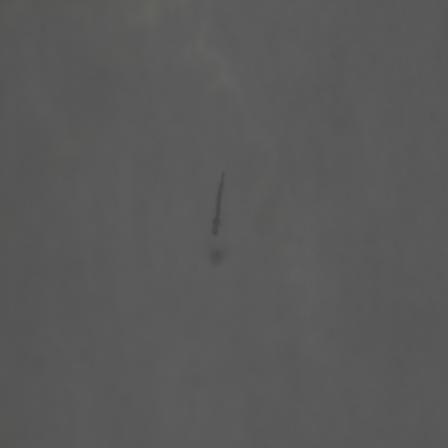Jentik-Nyamuk: (207, 166, 230, 241)
